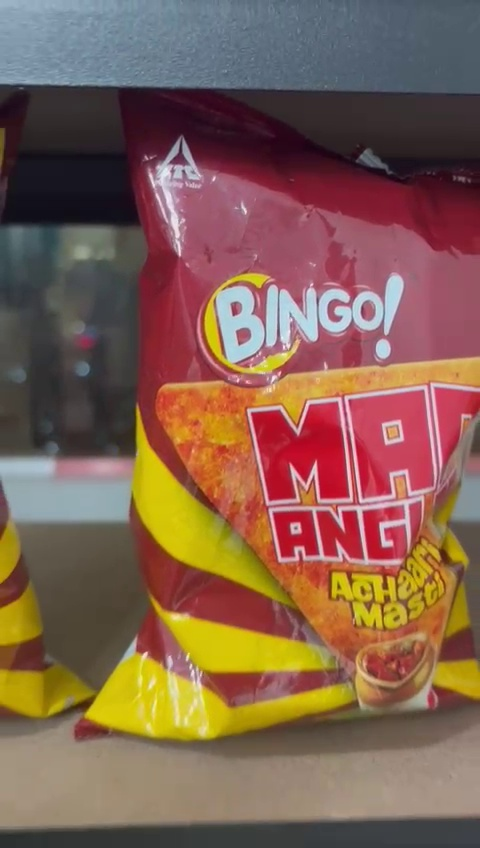Bingo Mad Angles: (118, 96, 480, 731)
